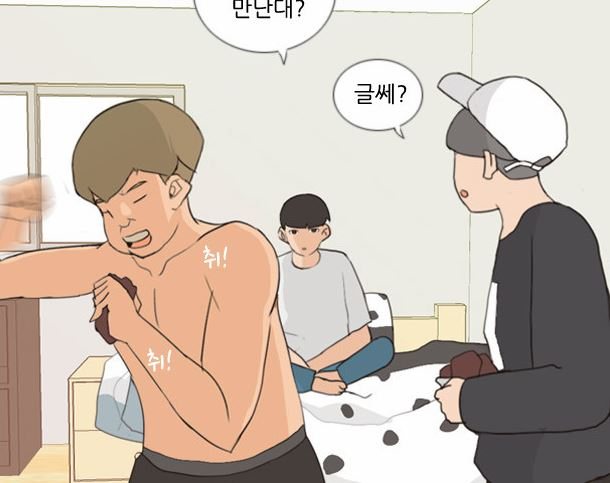hat: (437, 70, 568, 163)
